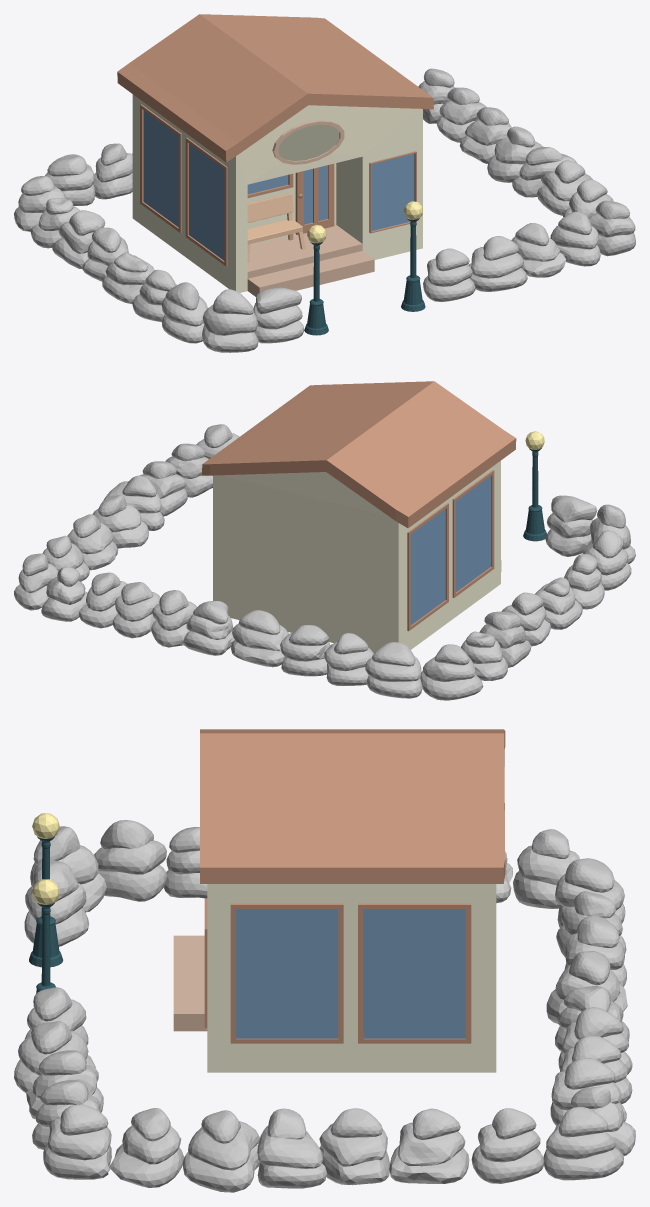
File: библиотека.fbx
3 views of the same model, one above another, from view 1: azimuth 30°, elevation 25°; view 2: azimuth 150°, elevation 25°; view 3: azimuth 270°, elevation 25° (orthographic). The views are drawn at different scales.
Visible parts, largest first — view 1: Cube, Icosphere.004, Icosphere.001, Icosphere.003, Icosphere.002, Icosphere.005, Chair 1, Icosphere.029, Icosphere.030, Icosphere.028, Icosphere.013, Icosphere.012 (+15 smaller); view 2: Cube, Icosphere.012, Icosphere.011, Icosphere.015, Icosphere.003, Icosphere.016, Icosphere.014, Icosphere.013, Icosphere.018, Icosphere.022, Icosphere.017, Icosphere.027 (+16 smaller); view 3: Cube, Icosphere.024, Icosphere.021, Icosphere.005, Icosphere.019, Icosphere.022, Icosphere.028, Icosphere.023, Icosphere.025, Icosphere.020, Icosphere.011, Icosphere.003 (+17 smaller).
Boxes of the visible parts, x1,y1,x2,y2 form: Cube: (117,14,433,296); Icosphere.004: (202,289,258,352); Icosphere.001: (468,236,527,291); Icosphere.003: (253,287,304,343); Icosphere.002: (423,248,475,301); Icosphere.005: (161,282,207,343); Chair 1: (247,193,305,262); Icosphere.029: (550,211,600,266); Icosphere.030: (511,223,566,277); Icosphere.028: (588,200,635,256); Icosphere.013: (93,143,132,199); Icosphere.012: (45,154,95,205); Cube: (202,381,516,652); Icosphere.012: (365,642,422,698); Icosphere.011: (420,644,483,700); Icosphere.015: (230,610,288,667); Icosphere.003: (545,495,597,556); Icosphere.016: (183,601,234,655); Icosphere.014: (280,625,330,676); Icosphere.013: (324,633,373,685); Icosphere.018: (112,582,160,638); Icosphere.022: (93,495,148,548); Icosphere.017: (151,590,196,647); Icosphere.027: (41,566,87,621); Cube: (173,729,505,1072); Icosphere.024: (183,1110,260,1192); Icosphere.021: (389,1108,469,1183); Icosphere.005: (94,820,166,901); Icosphere.019: (543,1107,623,1180); Icosphere.022: (319,1108,389,1185); Icosphere.028: (43,1104,111,1179); Icosphere.023: (257,1108,326,1188); Icosphere.025: (109,1108,184,1187); Icosphere.020: (471,1108,543,1183); Icosphere.011: (513,829,579,908); Icosphere.003: (24,859,89,946).
Bounding box in the file's own units: 1084 × 413 × 885.
